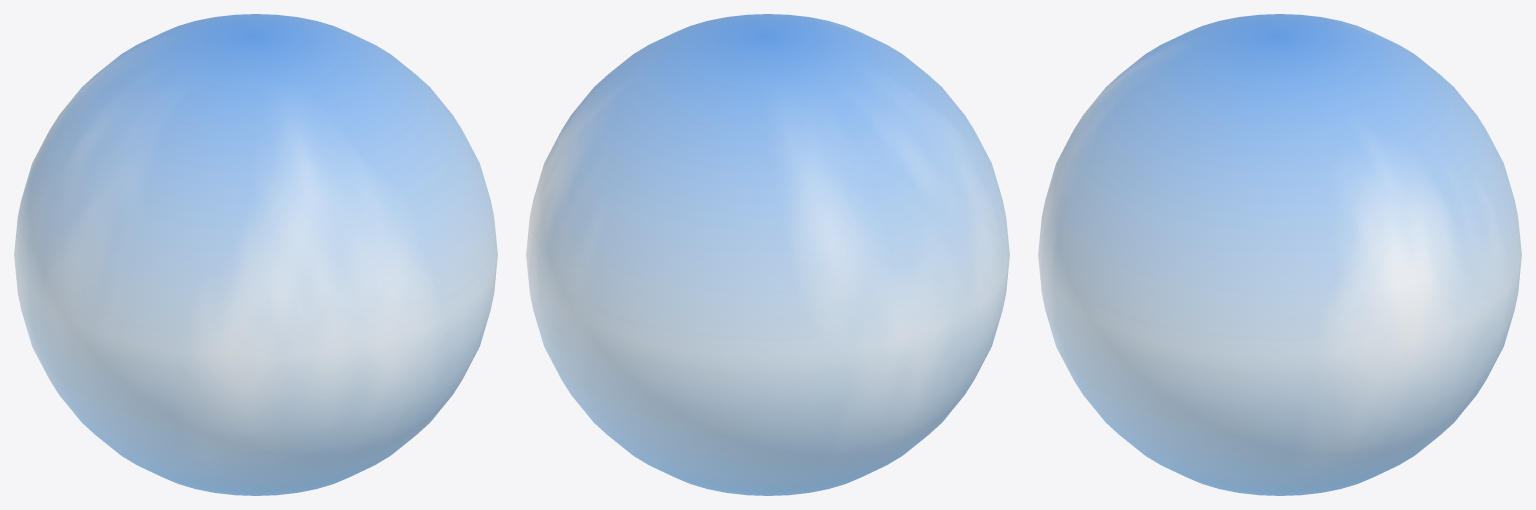
File: Warehouse.glb
The picture shows the model from 3 angles, left to right: view 1: azimuth 30°, elevation 25°; view 2: azimuth 150°, elevation 25°; view 3: azimuth 270°, elevation 25°; orthographic projection.
Visible parts, largest first — view 1: Exterior; view 2: Exterior; view 3: Exterior.
Part boxes in pixels (left/top/right/bottom): Exterior: left=14, top=14, right=497, bottom=495; Exterior: left=526, top=14, right=1009, bottom=495; Exterior: left=1038, top=14, right=1521, bottom=495.
Bounding box in the file's own units: 280 × 280 × 280.
Materials: 32 (19 with a texture image).
